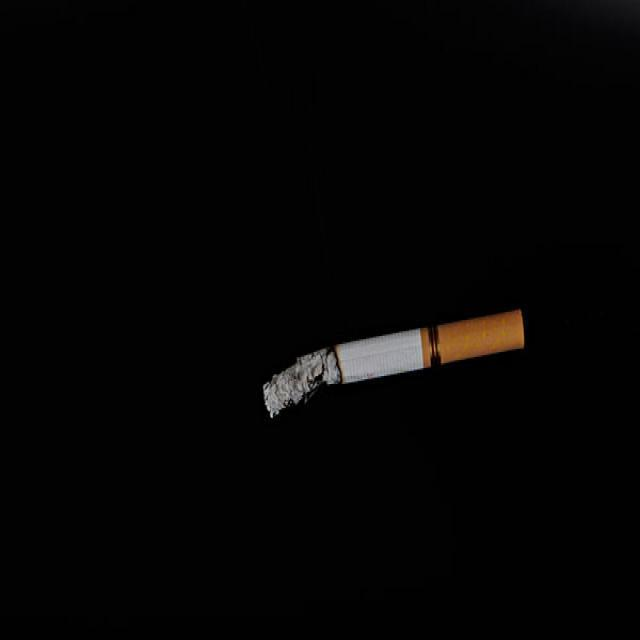rokok: (260, 302, 524, 422)
